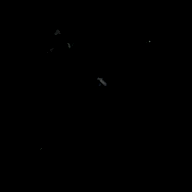v: (47, 26, 72, 52)
